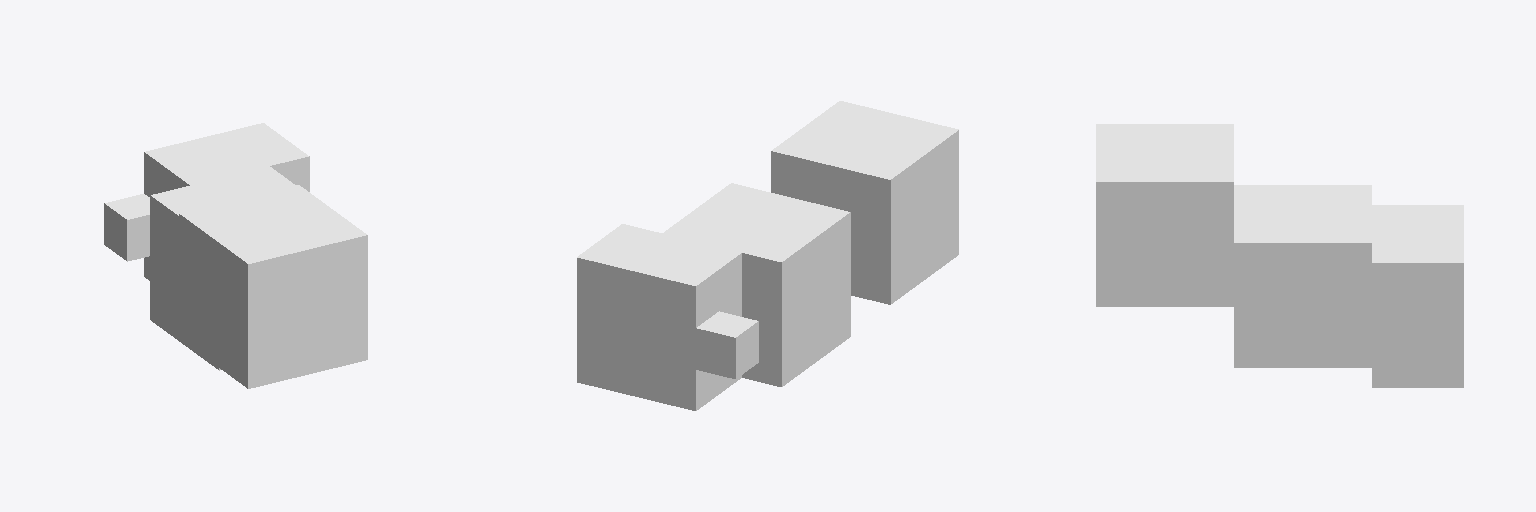
Rendered from conejo_izq_pez.obj.
3 views of the same model, side by side, from view 1: azimuth 30°, elevation 25°; view 2: azimuth 150°, elevation 25°; view 3: azimuth 270°, elevation 25° (orthographic).
Parts seen in each view (by area): view 1: conejo_izq_pez; view 2: conejo_izq_pez; view 3: conejo_izq_pez.
Boxes of the visible parts, box(x1,y1,x2,y2) form: conejo_izq_pez: box(104, 123, 367, 388); conejo_izq_pez: box(577, 101, 958, 410); conejo_izq_pez: box(1096, 124, 1463, 387).
Bounding box in the file's own units: 0.5 × 0.4 × 0.8.